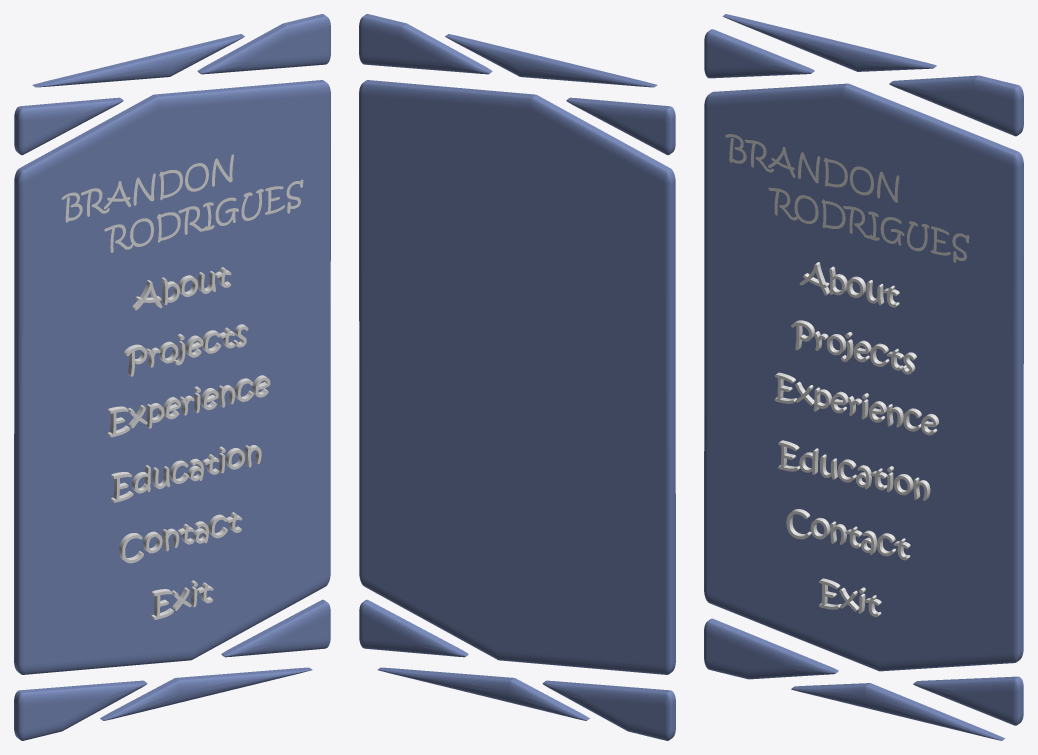
File: Menu.glb
The picture shows the model from 3 angles, left to right: view 1: azimuth 30°, elevation 25°; view 2: azimuth 150°, elevation 25°; view 3: azimuth 330°, elevation 25°; orthographic projection.
Parts seen in each view (by area): view 1: Menu_BG_01, Brandon_Rodrigues, Experience, Education, Projects, Contact, About, Exit; view 2: Menu_BG_01; view 3: Menu_BG_01, Brandon_Rodrigues, Experience, Education, Projects, Contact, About, Exit.
Part boxes in pixels (x1=…): Menu_BG_01: x1=14, y1=14, x2=330, y2=740; Brandon_Rodrigues: x1=61, y1=154, x2=303, y2=252; Experience: x1=107, y1=375, x2=270, y2=437; Education: x1=110, y1=445, x2=261, y2=502; Projects: x1=124, y1=324, x2=248, y2=376; Contact: x1=119, y1=512, x2=242, y2=563; About: x1=132, y1=267, x2=231, y2=310; Exit: x1=151, y1=580, x2=213, y2=619; Menu_BG_01: x1=359, y1=14, x2=675, y2=740; Menu_BG_01: x1=704, y1=14, x2=1023, y2=740; Brandon_Rodrigues: x1=725, y1=134, x2=969, y2=262; Experience: x1=774, y1=372, x2=939, y2=435; Education: x1=778, y1=440, x2=930, y2=500; Projects: x1=791, y1=320, x2=916, y2=374; Contact: x1=786, y1=509, x2=910, y2=560; About: x1=799, y1=262, x2=899, y2=307; Exit: x1=818, y1=578, x2=881, y2=617.
Bounding box in the file's own units: 3 × 5.96 × 0.2804.
